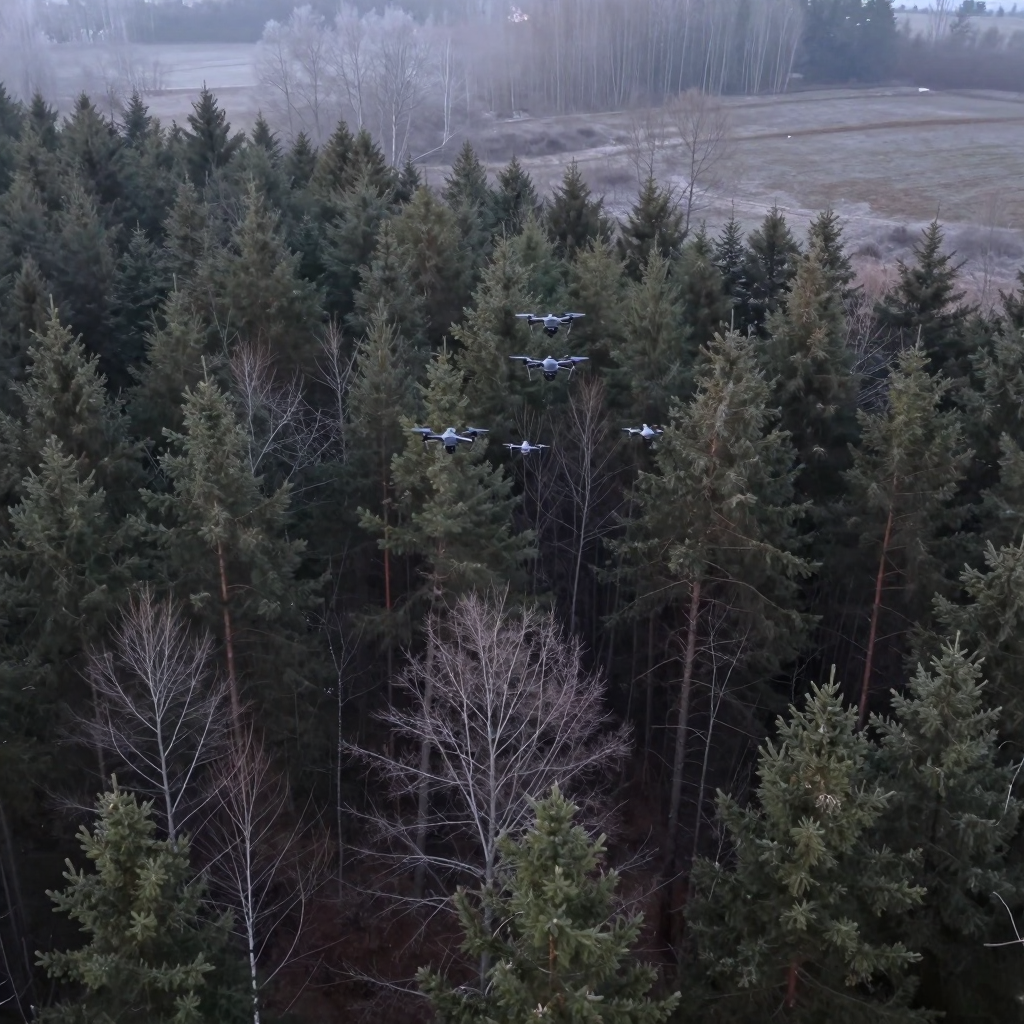drone: (509, 351, 596, 387), (410, 425, 489, 454), (515, 313, 586, 338), (502, 440, 550, 458), (621, 424, 664, 440)
